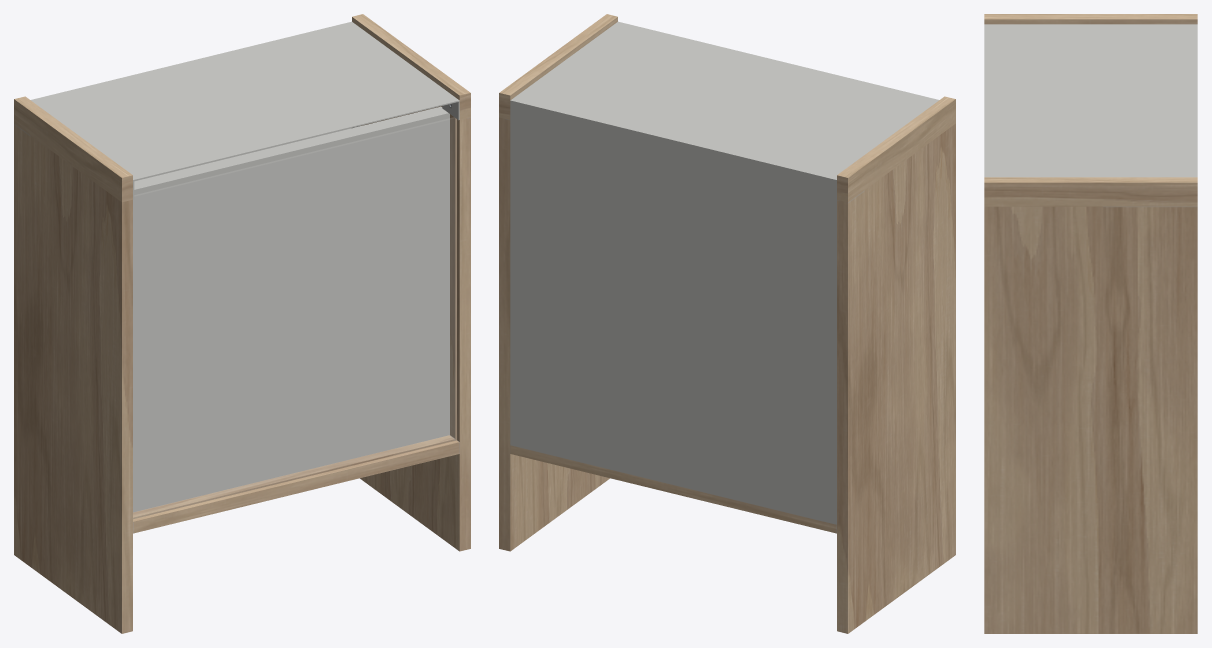
The picture shows the model from 3 angles, left to right: view 1: azimuth 30°, elevation 25°; view 2: azimuth 150°, elevation 25°; view 3: azimuth 270°, elevation 25°; orthographic projection.
Parts seen in each view (by area): view 1: BF_dc20M.model, BF_dc20Mglass.model; view 2: BF_dc20M.model; view 3: BF_dc20M.model.
Part boxes in pixels (<box>): BF_dc20M.model: <box>14,14,470,633</box>; BF_dc20Mglass.model: <box>133,118,456,518</box>; BF_dc20M.model: <box>499,14,955,633</box>; BF_dc20M.model: <box>984,14,1197,633</box>.
Bounding box in the file's own units: 0.374 × 0.467 × 0.2.
Materials: 2 (2 with a texture image).
